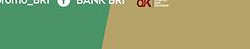ojk: (134, 1, 171, 9)
